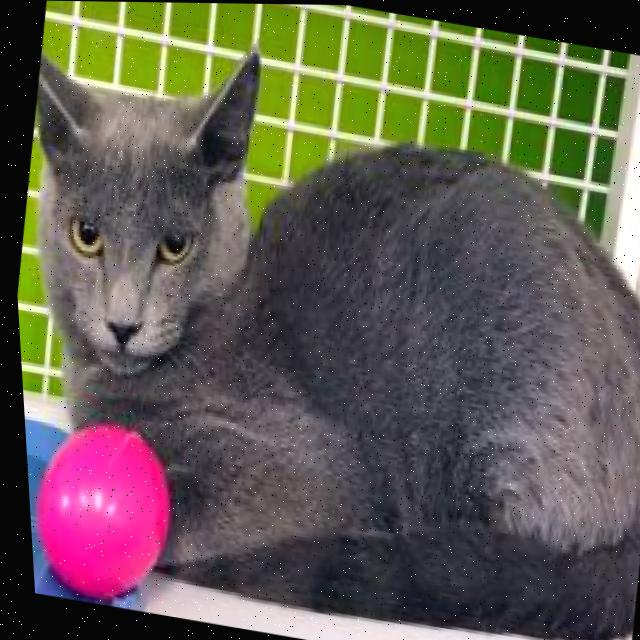Russian Blue: (0, 7, 640, 640)
